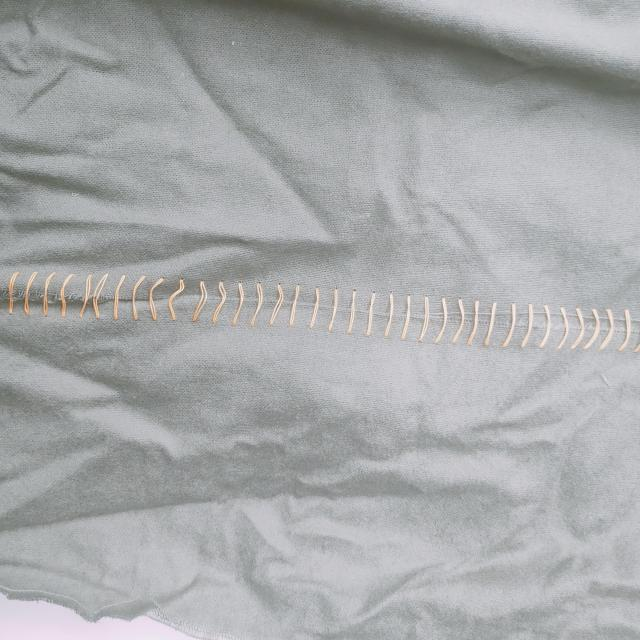gray stitch: (309, 280, 636, 354), (5, 260, 302, 334)
